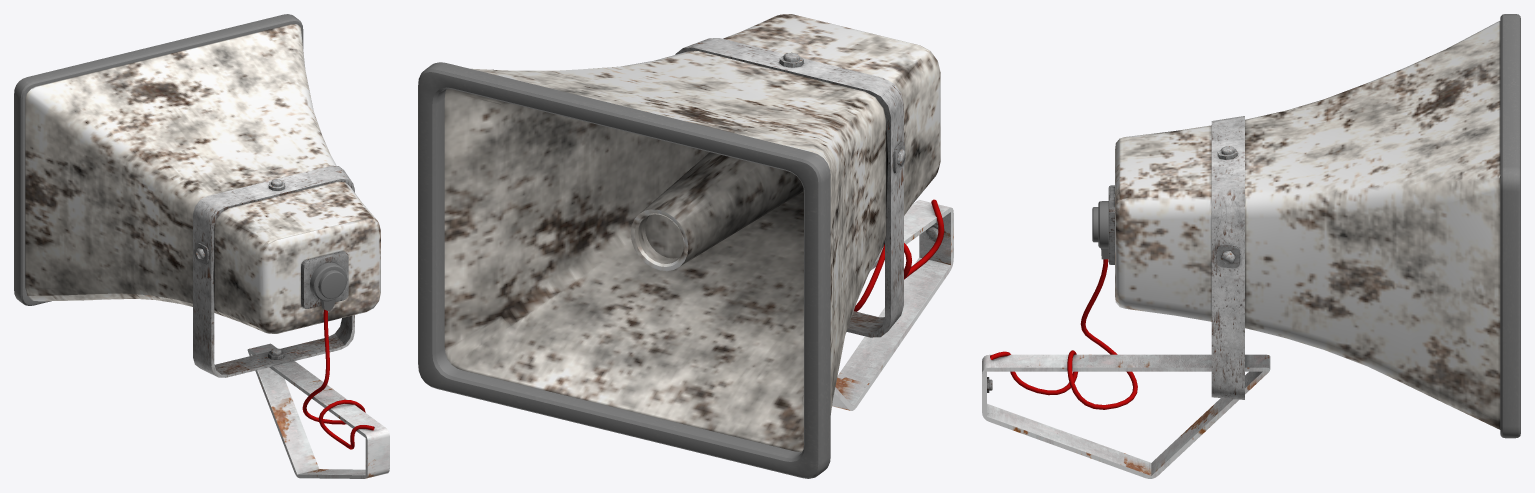
Rendered from Loud Speaker.fbx.
3 views of the same model, side by side, from view 1: azimuth 30°, elevation 25°; view 2: azimuth 150°, elevation 25°; view 3: azimuth 270°, elevation 25° (orthographic). The views are drawn at different scales.
Parts seen in each view (by area): view 1: Circle.1131, Plane.087, Circle.1132, Cube.4298, Circle.1136, object 1, Circle.1130; view 2: Circle.1131, Cube.4298, Plane.087, Circle.1132, object 1; view 3: Circle.1131, Circle.1132, Cube.4298, Plane.087, object 1, Circle.1136, Circle.1130.
Boxes of the visible parts, <box> form: Circle.1131: <box>25,24,380,333</box>; Plane.087: <box>193,165,354,377</box>; Circle.1132: <box>247,343,389,478</box>; Cube.4298: <box>14,14,303,305</box>; Circle.1136: <box>195,242,348,359</box>; object 1: <box>302,309,374,449</box>; Circle.1130: <box>310,262,347,311</box>; Circle.1131: <box>444,14,940,452</box>; Cube.4298: <box>418,62,830,478</box>; Plane.087: <box>675,38,903,337</box>; Circle.1132: <box>832,200,953,410</box>; object 1: <box>854,199,944,311</box>; Circle.1131: <box>1115,21,1500,429</box>; Circle.1132: <box>982,354,1270,478</box>; Cube.4298: <box>1500,14,1520,438</box>; Plane.087: <box>1211,116,1244,399</box>; object 1: <box>990,259,1137,409</box>; Circle.1136: <box>987,185,1239,392</box>; Circle.1130: <box>1092,201,1108,259</box>.
Bounding box in the file's own units: 3988 × 4266 × 5469.
8 materials, 6 textured.
